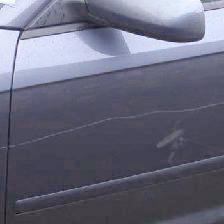door_scratch: (1, 101, 223, 155)
